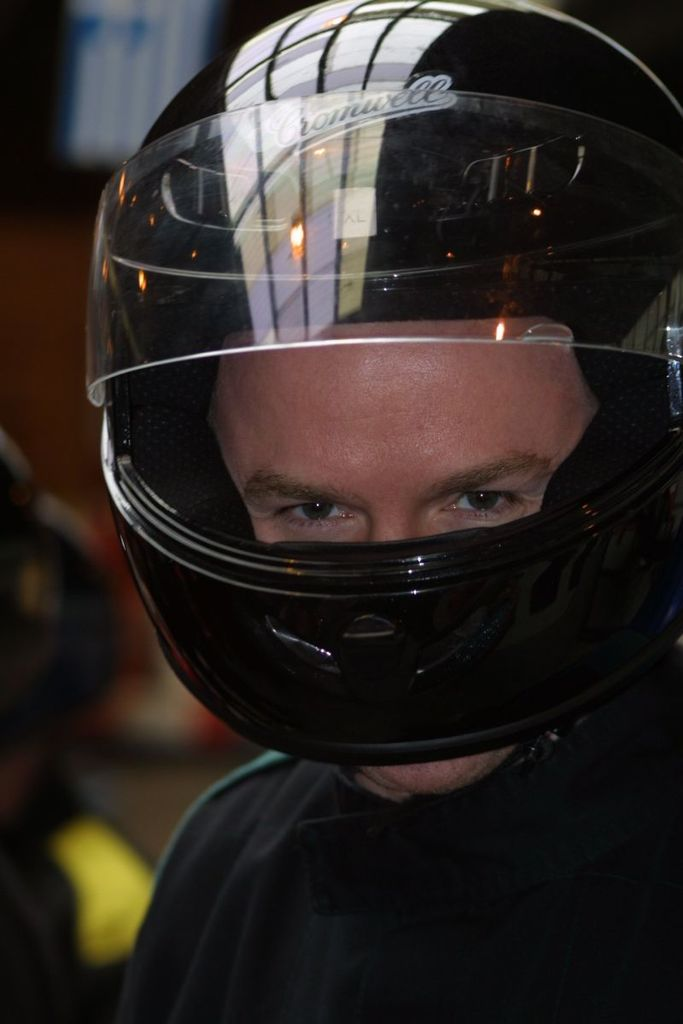Person: (85, 0, 682, 1024)
